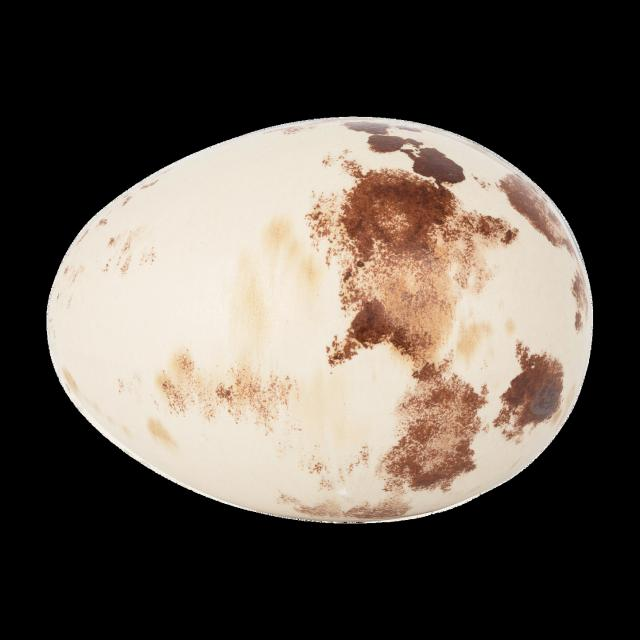Dirt Stained Egg: (44, 110, 606, 549)
